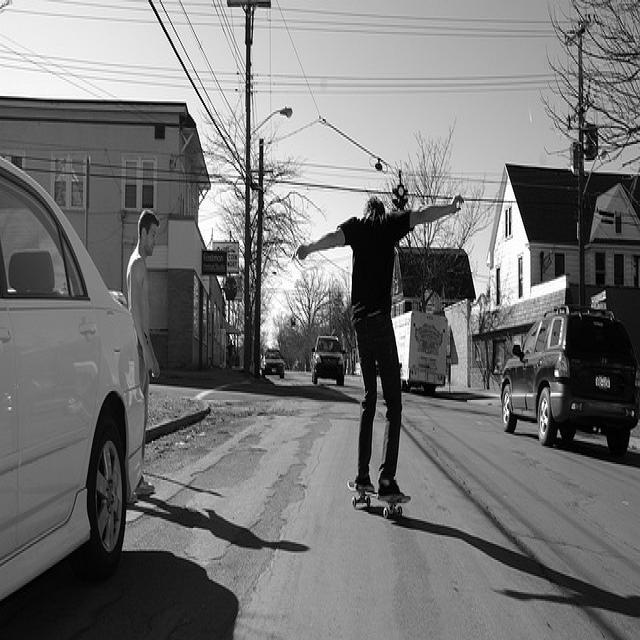Vehicle: (0, 152, 145, 604), (500, 306, 640, 463), (392, 308, 452, 401), (310, 334, 347, 385), (260, 348, 285, 381)
